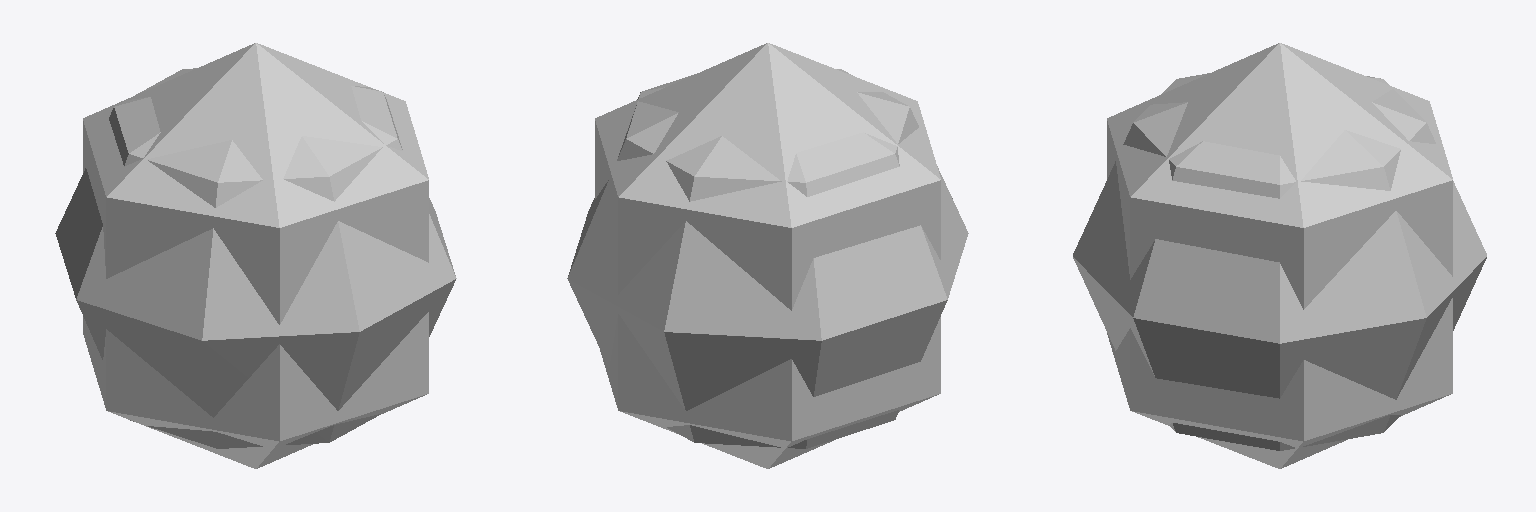
Rendered from DustBall.obj.
3 views of the same model, side by side, from view 1: azimuth 30°, elevation 25°; view 2: azimuth 150°, elevation 25°; view 3: azimuth 270°, elevation 25° (orthographic).
Parts seen in each view (by area): view 1: DustBall; view 2: DustBall; view 3: DustBall.
Boxes of the visible parts, x1=… form: DustBall: x1=55, y1=43, x2=456, y2=468; DustBall: x1=567, y1=43, x2=968, y2=468; DustBall: x1=1073, y1=43, x2=1486, y2=468.
Size of the model in its own units: 0.6402 by 0.726 by 0.6402.